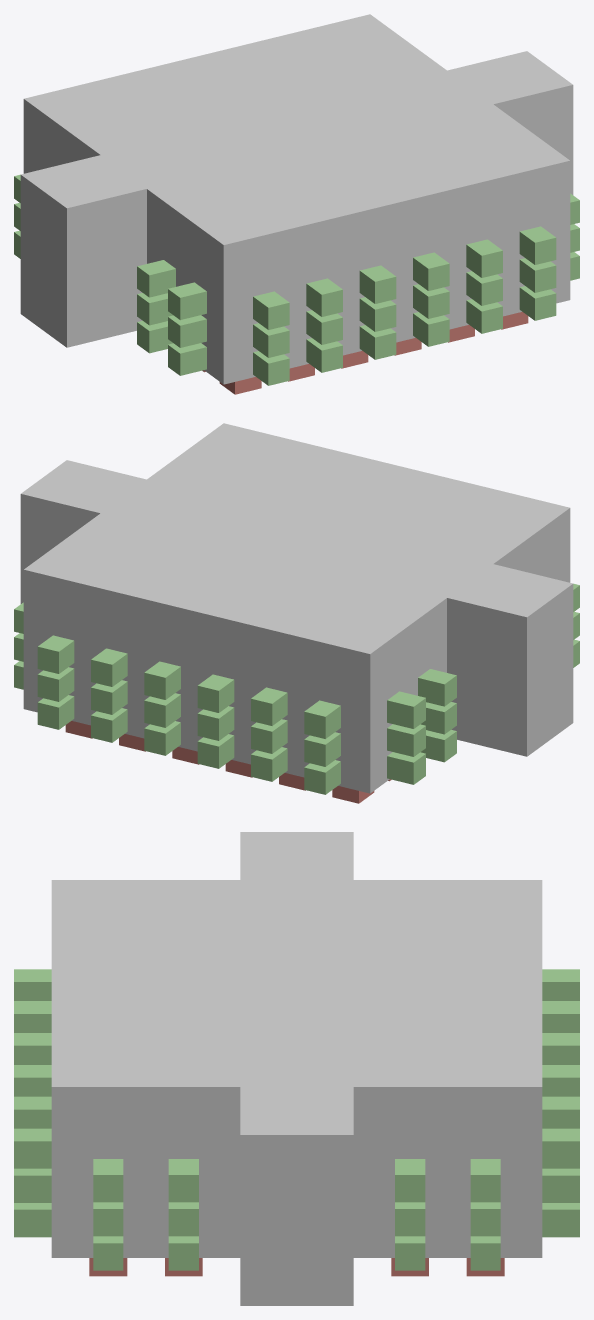
File: cripta.fbx
3 views of the same model, one above another, from view 1: azimuth 30°, elevation 25°; view 2: azimuth 150°, elevation 25°; view 3: azimuth 270°, elevation 25° (orthographic). The views are drawn at different scales.
Visible parts, largest first — view 1: Cube; view 2: Cube; view 3: Cube.
Boxes of the visible parts, x1,y1,x2,y2 form: Cube: (14,14,579,394); Cube: (14,423,579,803); Cube: (14,832,579,1305).
Size of the model in its own units: 1900 by 600 by 1500.
